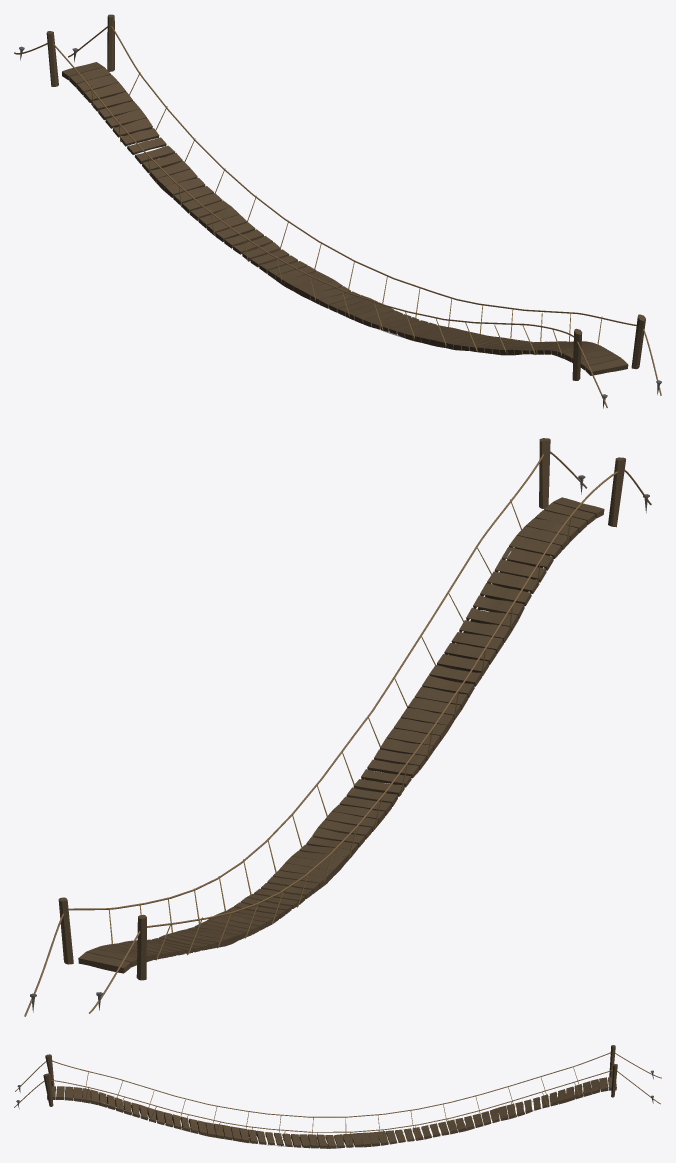
File: bridge_big.glb
3 renders of one model, top to bottom at view 1: azimuth 30°, elevation 25°; view 2: azimuth 150°, elevation 25°; view 3: azimuth 270°, elevation 25°, orthographic. The views are drawn at different scales.
Visible parts, largest first — view 1: Plane.024, Cube.116, bridge_curve.001, bridge_curve.002, Cube.115; view 2: Plane.024, Cube.116, bridge_curve.001, bridge_curve.002, Cube.115; view 3: Plane.024, bridge_curve.002, bridge_curve.001, Cube.116, Cube.115.
Part boxes in pixels (bbox=[...]): Plane.024: bbox=[62, 62, 628, 375]; Cube.116: bbox=[46, 14, 645, 380]; bridge_curve.001: bbox=[68, 26, 661, 395]; bridge_curve.002: bbox=[14, 43, 607, 407]; Cube.115: bbox=[91, 72, 602, 356]; Plane.024: bbox=[78, 497, 604, 973]; Cube.116: bbox=[58, 438, 625, 980]; bridge_curve.001: bbox=[24, 451, 587, 1016]; bridge_curve.002: bbox=[89, 470, 651, 1013]; Cube.115: bbox=[109, 499, 571, 960]; Plane.024: bbox=[47, 1077, 616, 1148]; bridge_curve.002: bbox=[15, 1052, 661, 1117]; bridge_curve.001: bbox=[14, 1070, 660, 1132]; Cube.116: bbox=[43, 1045, 617, 1106]; Cube.115: bbox=[85, 1067, 580, 1147].
Size of the model in its own units: 0.4743 by 0.4702 by 3.1.
2 materials, 1 textured.
